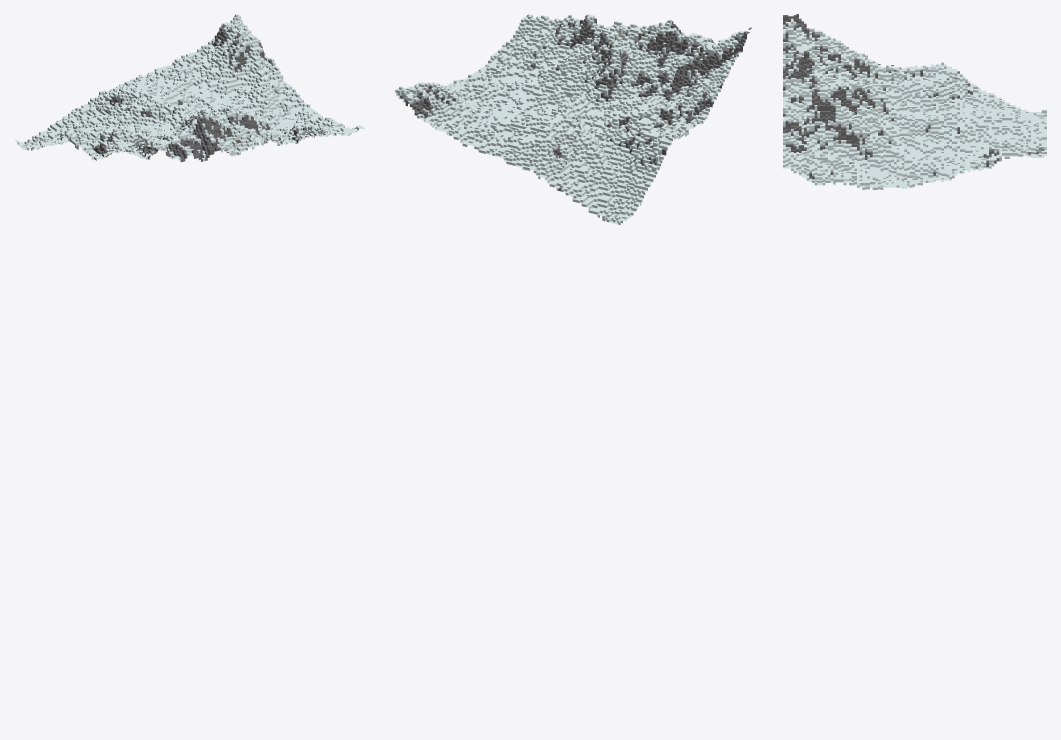
Rendered from chunk4400-100-lvl-1-transformed.glb.
3 renders of one model, left to right at view 1: azimuth 30°, elevation 25°; view 2: azimuth 150°, elevation 25°; view 3: azimuth 270°, elevation 25°, orthographic. The views are drawn at different scales.
Parts seen in each view (by area): view 1: Snow_Block, Cobblestone, Stone; view 2: Snow_Block, Stone, Cobblestone; view 3: Snow_Block, Stone, Cobblestone.
Part boxes in pixels (x1,y1,x2,y2): Snow_Block: (15,14,364,161); Cobblestone: (57,30,325,161); Stone: (58,27,325,162); Snow_Block: (394,14,747,224); Stone: (400,20,751,165); Cobblestone: (404,15,749,191); Snow_Block: (783,18,1046,189); Stone: (783,15,1046,178); Cobblestone: (783,14,1046,179).
Size of the model in its own units: 100 by 251 by 100.
14 materials, 14 textured.
